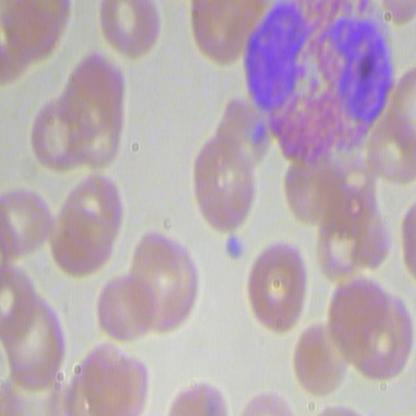Platelets: (223, 234, 247, 262)
RBC: (181, 129, 263, 236), (122, 231, 203, 338), (242, 240, 310, 334), (92, 1, 176, 62), (25, 96, 88, 174), (48, 205, 110, 283), (94, 270, 156, 348), (288, 315, 350, 393)
WBC: (241, 1, 398, 166)
